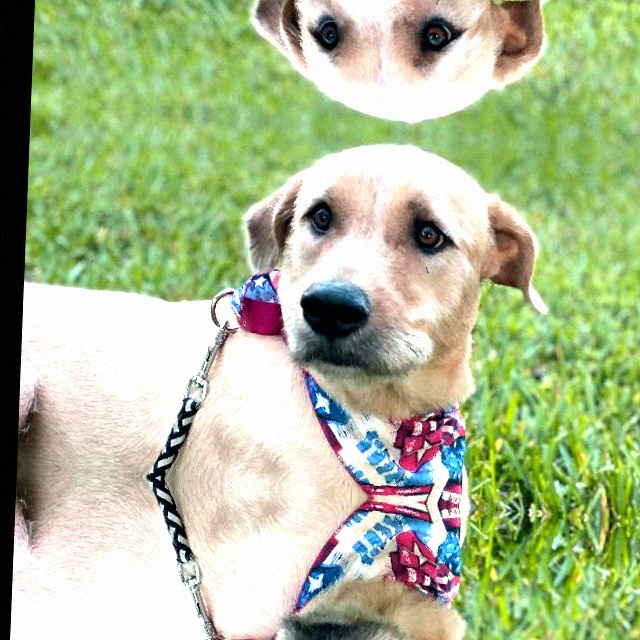dog: (219, 124, 555, 408), (229, 0, 562, 140), (208, 589, 536, 640)
